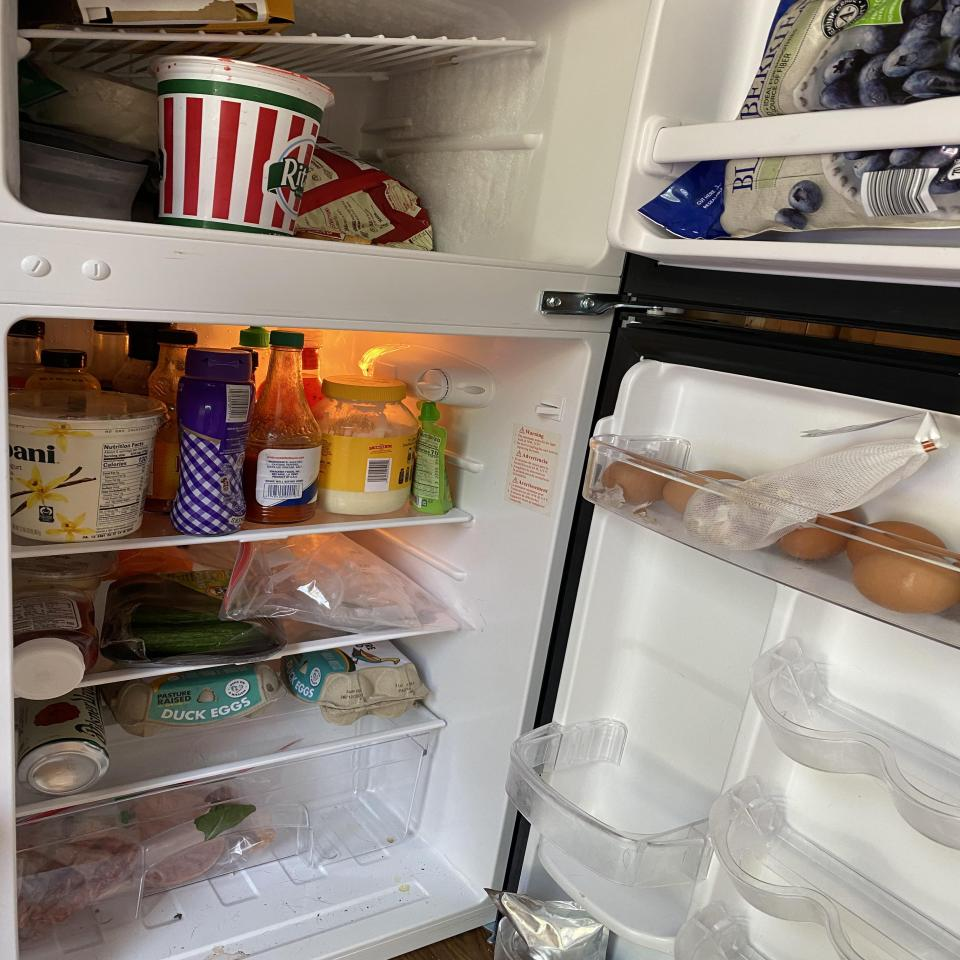Huevos: (599, 457, 960, 615), (282, 630, 428, 726), (105, 662, 288, 738)
Pepino: (110, 621, 270, 658), (114, 605, 264, 627)
Yogur: (6, 389, 170, 542)
